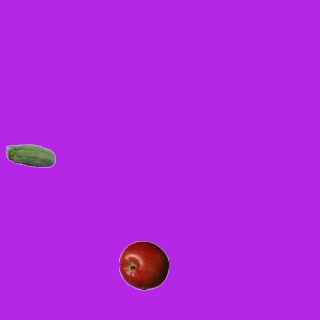Apple Braeburn: (118, 240, 168, 290)
Corn Husk: (5, 132, 55, 182)
